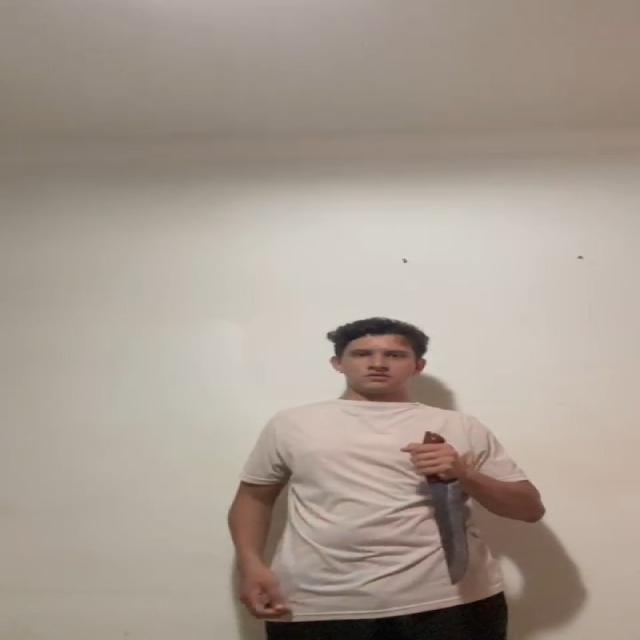knife: (432, 478, 474, 582)
